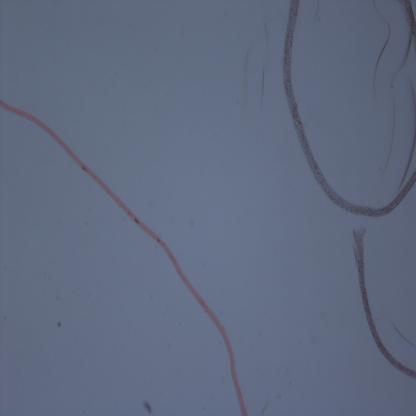Background material: (376, 78, 416, 185), (364, 9, 398, 99)
Microfibre: (0, 100, 247, 414), (282, 0, 416, 215), (351, 229, 416, 377)
